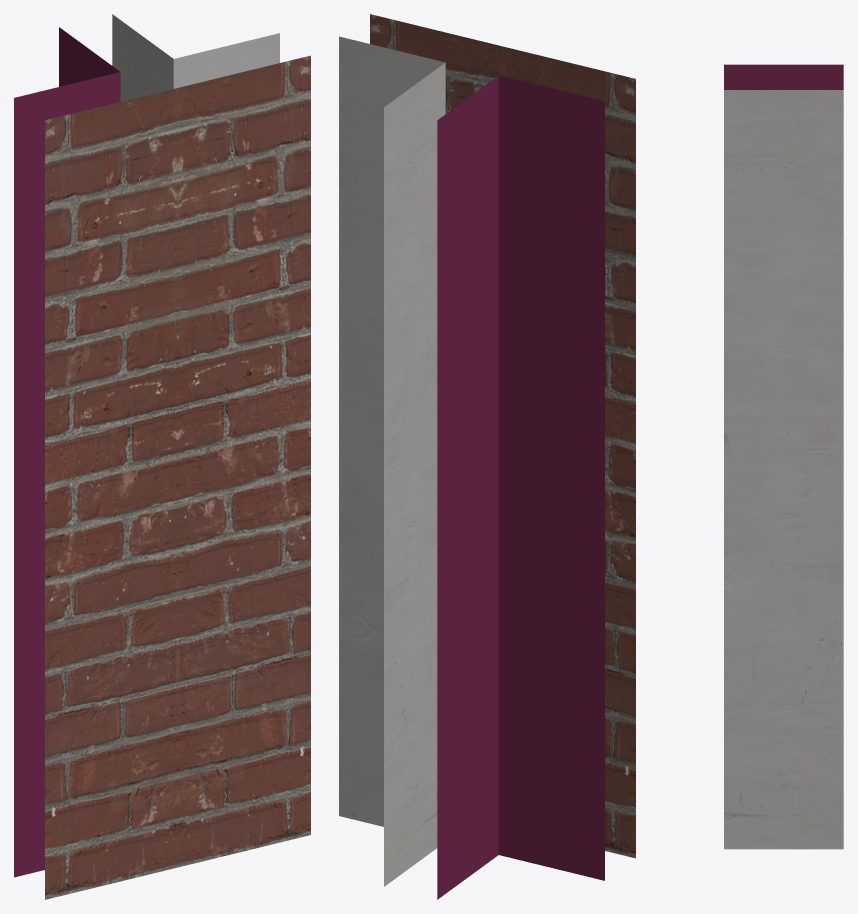
Rendered from MidIn_Wall_Corner_T.FBX.
3 renders of one model, left to right at view 1: azimuth 30°, elevation 25°; view 2: azimuth 150°, elevation 25°; view 3: azimuth 270°, elevation 25°, orthographic. The views are drawn at different scales.
Visible parts, largest first — view 1: MidIn_Wall_Corner_T; view 2: MidIn_Wall_Corner_T; view 3: MidIn_Wall_Corner_T.
Boxes of the visible parts, bbox=[...] form: MidIn_Wall_Corner_T: bbox=[14, 14, 310, 899]; MidIn_Wall_Corner_T: bbox=[339, 14, 635, 899]; MidIn_Wall_Corner_T: bbox=[724, 64, 843, 849].
Bounding box in the file's own units: 100 × 280 × 60.
